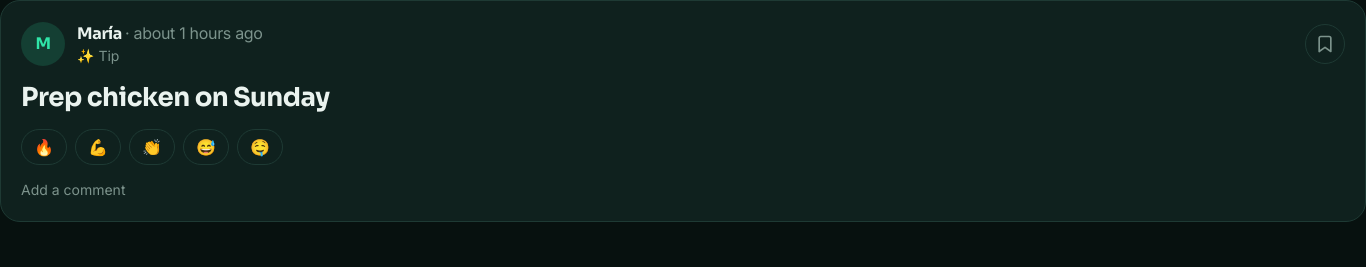
it: reactions › asks a signed-out reader to sign in rather than failing silently
Click the button named "🔥 reaction" at (44, 147), box [21,129,67,165]
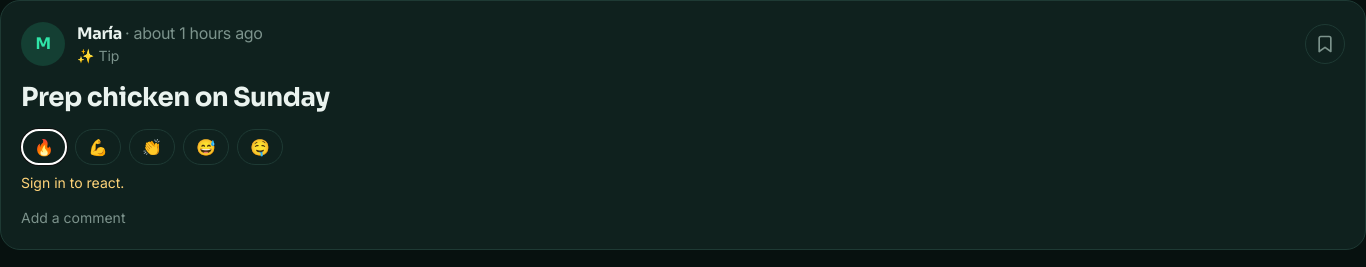
expect the text "Sign in to react." is shown: met, box [21,174,124,191]
